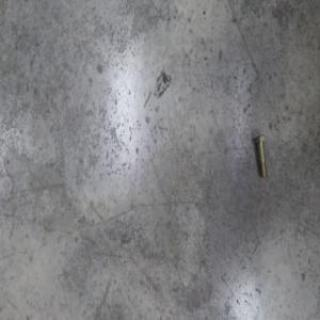Bolttrack_idkeyframe: (253, 131, 267, 176)
